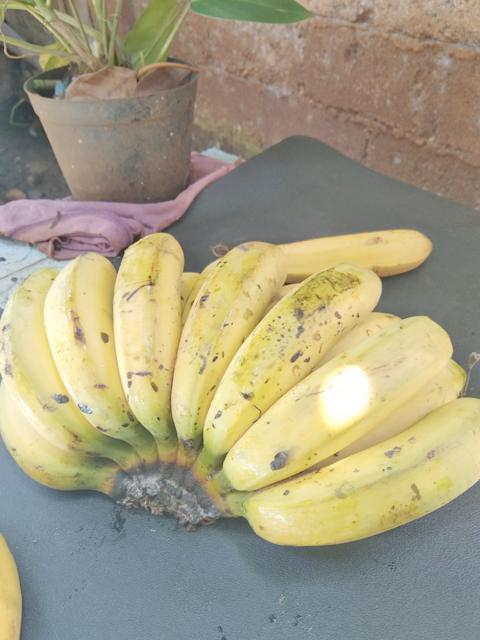freshripe: (282, 202, 448, 270)
ripe: (234, 326, 463, 484), (200, 266, 390, 439), (266, 404, 476, 559), (169, 226, 300, 431), (36, 228, 149, 426), (103, 214, 189, 439)
